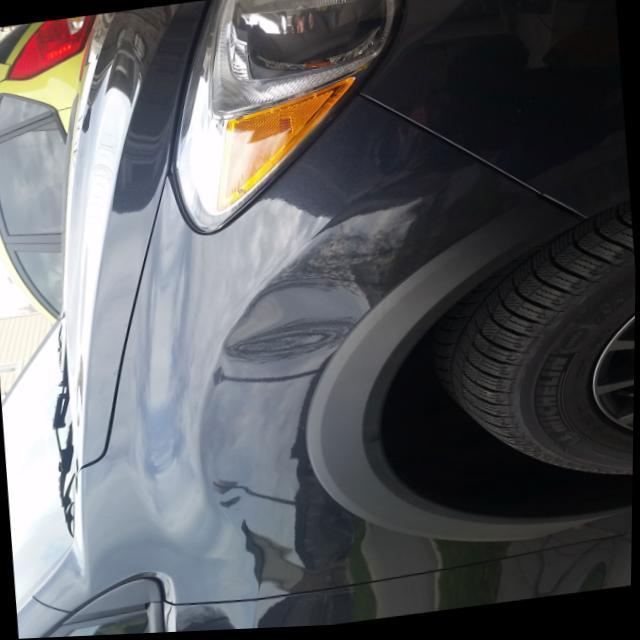Dent: (191, 244, 392, 395)
